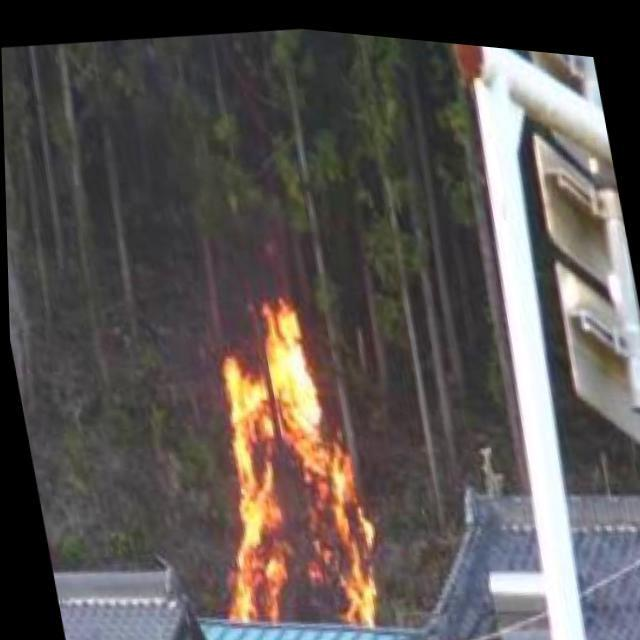fire: (170, 270, 394, 630)
